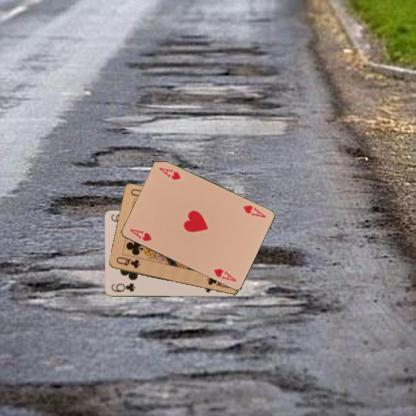6c: (108, 281, 136, 293)
Ah: (240, 202, 267, 219), (128, 226, 152, 243)
Qc: (113, 254, 141, 270)
